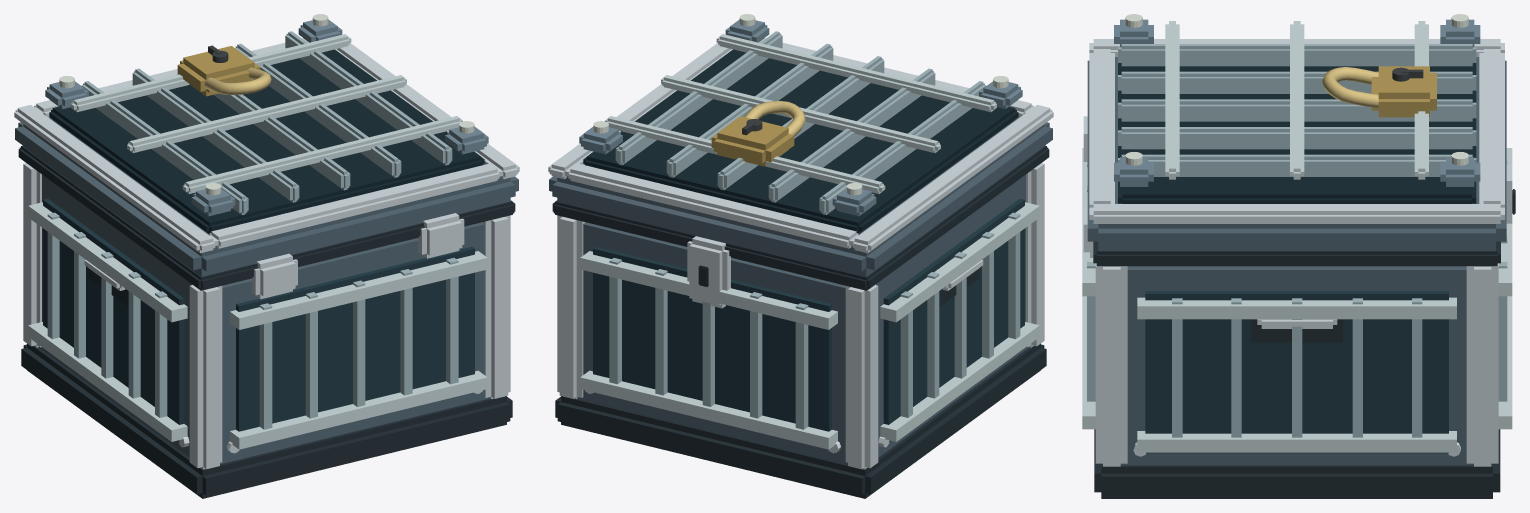
File: crate_grade.fbx
3 views of the same model, side by side, from view 1: azimuth 30°, elevation 25°; view 2: azimuth 150°, elevation 25°; view 3: azimuth 270°, elevation 25° (orthographic). The views are drawn at different scales.
Visible parts, largest first — view 1: crate_grade_caixa; view 2: crate_grade_caixa; view 3: crate_grade_caixa.
Boxes of the visible parts, x1,y1,x2,y2 form: crate_grade_caixa: [14, 14, 519, 498]; crate_grade_caixa: [548, 14, 1053, 498]; crate_grade_caixa: [1082, 14, 1515, 498].
Size of the model in its own units: 2.69 by 2.39 by 2.71.
Materials: 1 (1 with a texture image).
